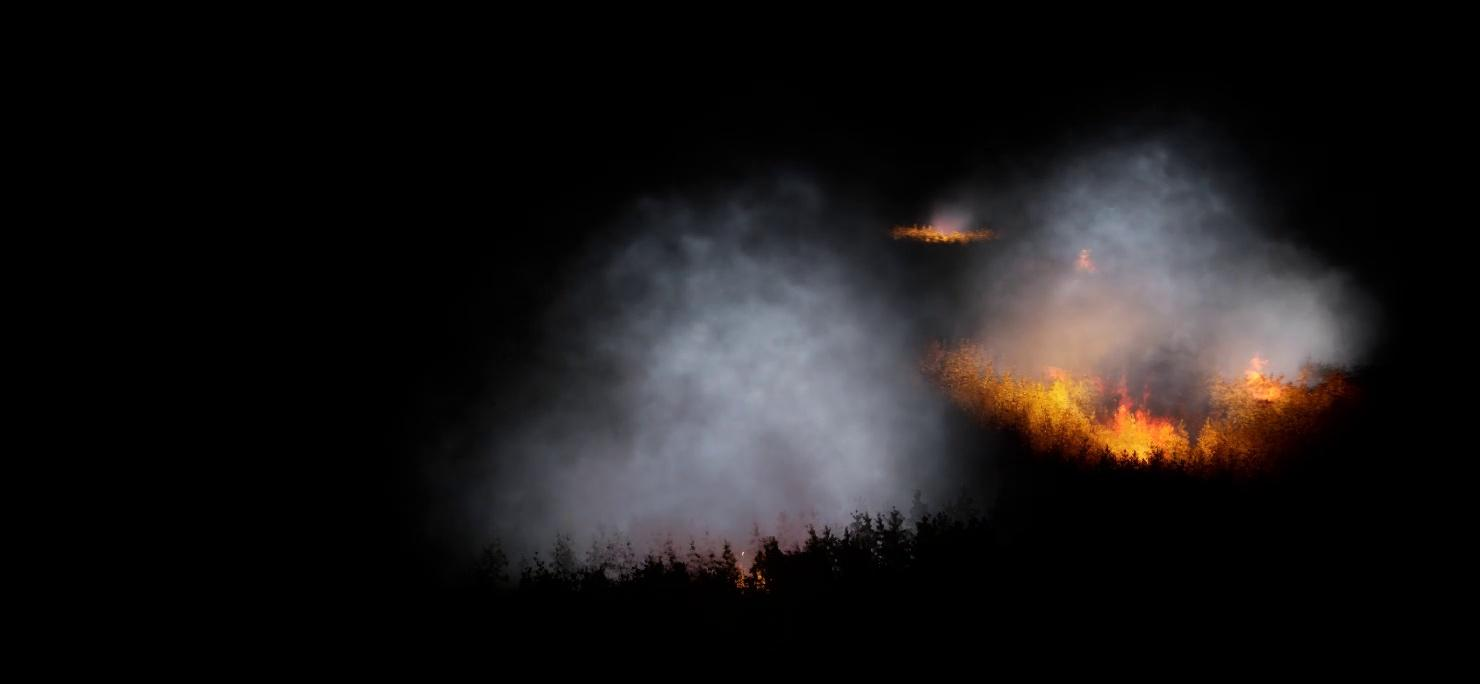fire: (934, 342, 1366, 463), (896, 219, 991, 243), (1070, 242, 1099, 273)
smoke: (470, 167, 958, 575), (954, 128, 1381, 399)
